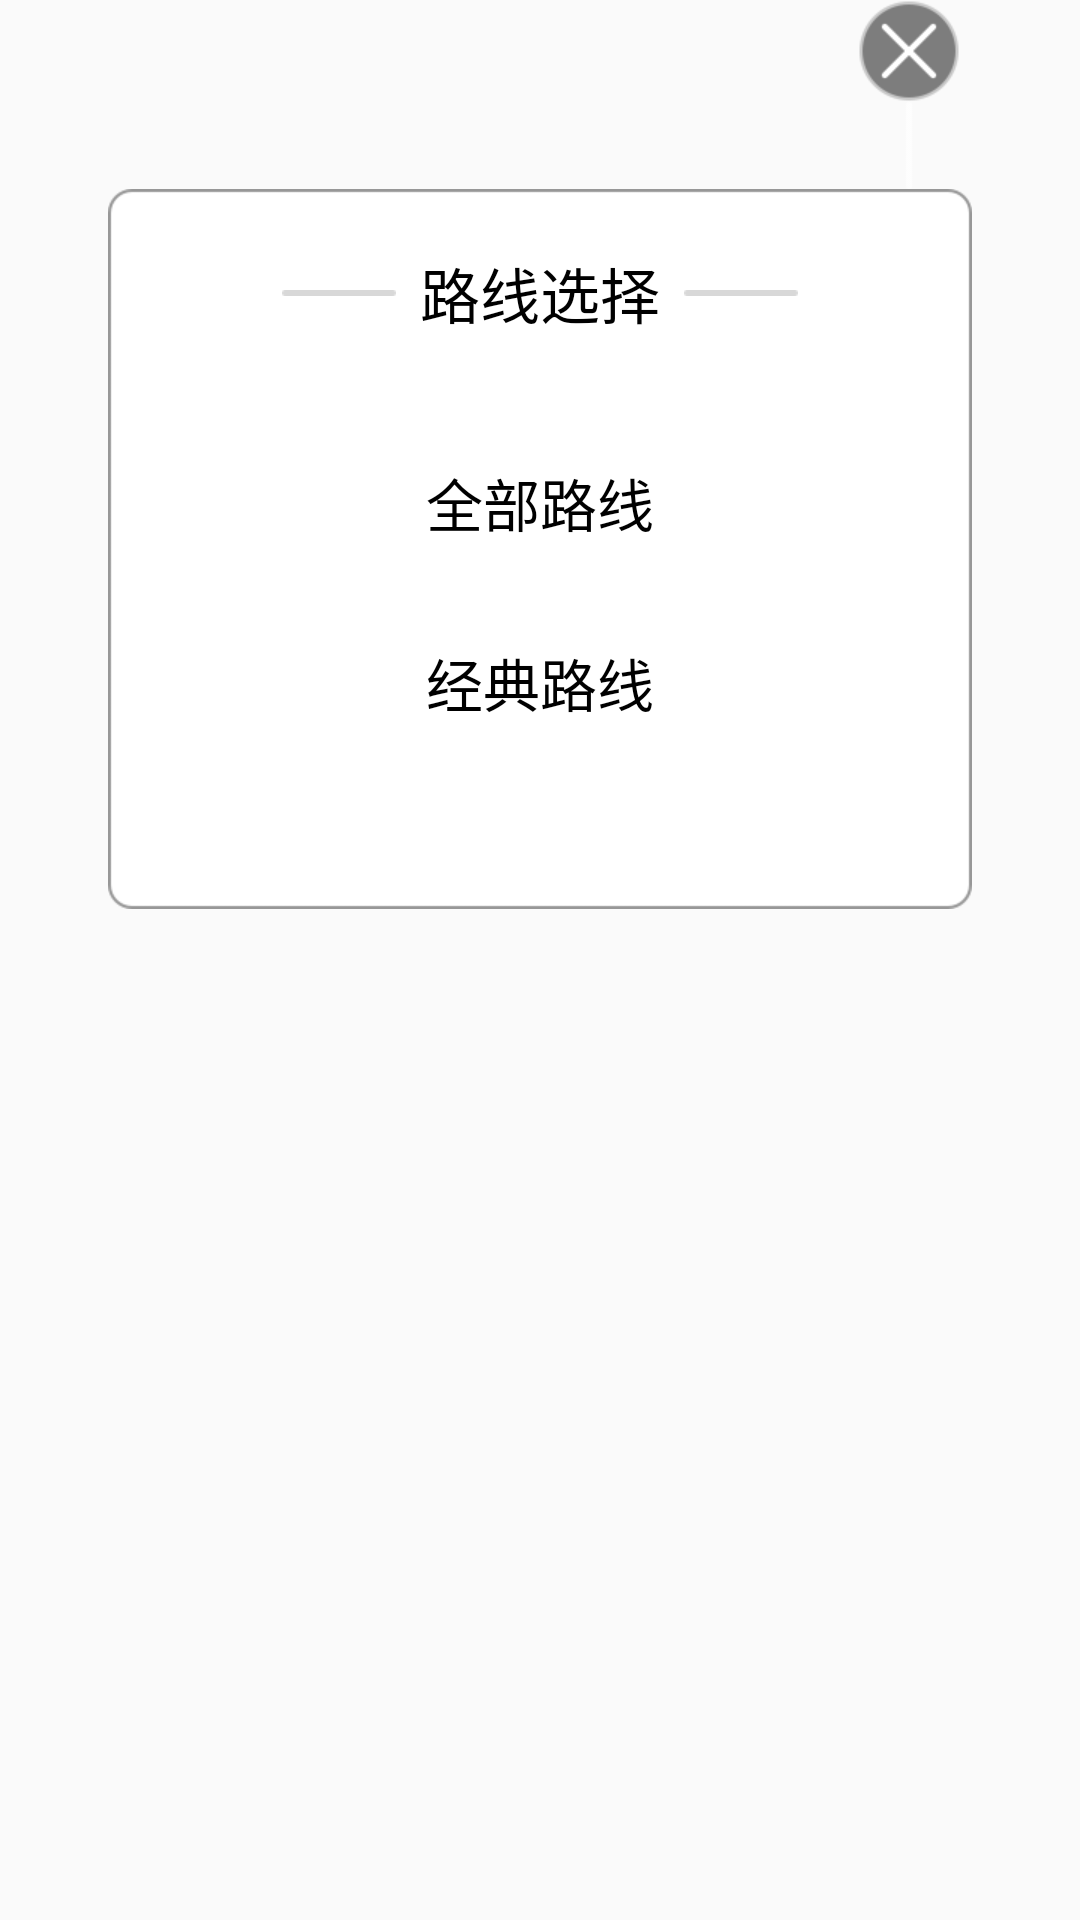

Screen size 1080px x 1920px. Icon name, then its box in pixels as [x1, y1, x2, y2]:
close dilog: [859, 1, 959, 101]
